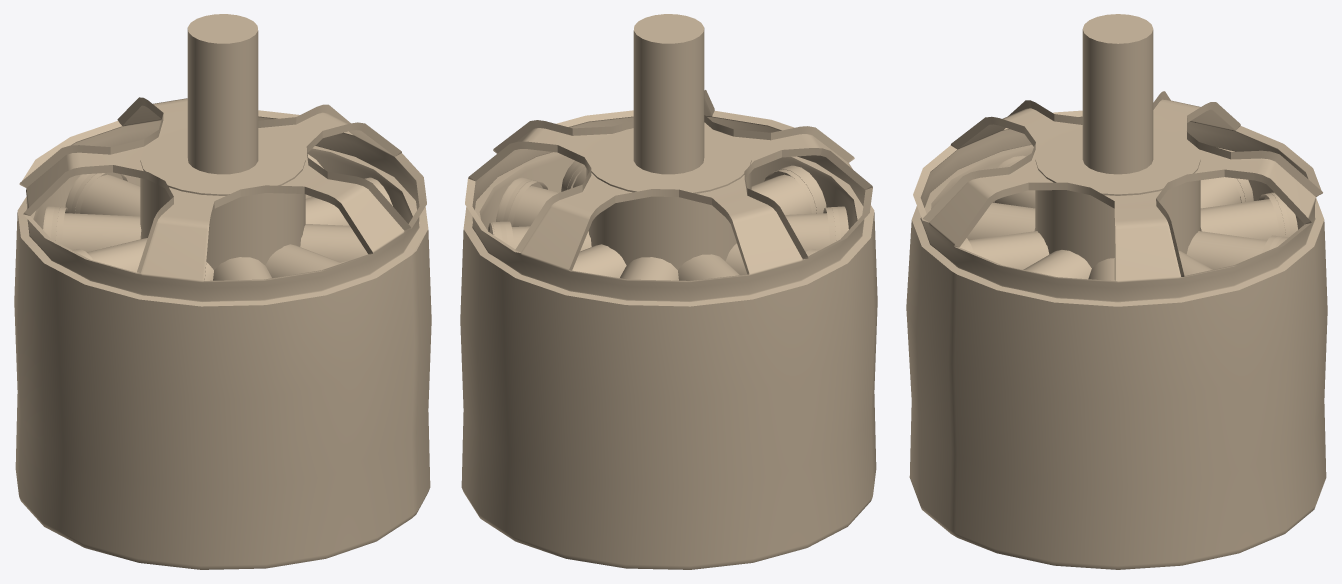
Rendered from motor_type_5.fbx.
3 views of the same model, side by side, from view 1: azimuth 30°, elevation 25°; view 2: azimuth 150°, elevation 25°; view 3: azimuth 270°, elevation 25° (orthographic).
Parts seen in each view (by area): view 1: pCylinder20, pCylinder21, coil_7_174, coil_7_175, coil_7_169, coil_7_170, coil_7_173, coil_7_172, coil; view 2: pCylinder20, pCylinder21, coil_7_172, coil, coil_7_171, coil_7_176, coil_7_174, coil_7_175, coil_7_167, coil_7_169; view 3: pCylinder20, pCylinder21, coil_7_175, coil_7_176, coil_7_170, coil_7_172, coil_7_174, coil_7_169, coil_7_171.
Part boxes in pixels (x1=…): pCylinder20: x1=14, y1=14, x2=431, y2=569; pCylinder21: x1=140, y1=128, x2=305, y2=269; coil_7_174: x1=43, y1=206, x2=141, y2=252; coil_7_175: x1=65, y1=172, x2=140, y2=216; coil_7_169: x1=300, y1=224, x2=367, y2=262; coil_7_170: x1=265, y1=244, x2=348, y2=277; coil_7_173: x1=72, y1=238, x2=147, y2=272; coil_7_172: x1=213, y1=257, x2=271, y2=280; coil: x1=305, y1=177, x2=392, y2=225; pCylinder20: x1=460, y1=14, x2=877, y2=569; pCylinder21: x1=586, y1=128, x2=751, y2=269; coil_7_172: x1=751, y1=165, x2=826, y2=214; coil: x1=496, y1=177, x2=558, y2=226; coil_7_171: x1=785, y1=206, x2=848, y2=251; coil_7_176: x1=572, y1=244, x2=626, y2=277; coil_7_174: x1=678, y1=254, x2=739, y2=280; coil_7_175: x1=620, y1=257, x2=678, y2=280; coil_7_167: x1=488, y1=221, x2=591, y2=251; coil_7_169: x1=561, y1=160, x2=586, y2=191; pCylinder20: x1=906, y1=14, x2=1327, y2=569; pCylinder21: x1=1035, y1=128, x2=1200, y2=267; coil_7_175: x1=1200, y1=192, x2=1297, y2=240; coil_7_176: x1=1186, y1=231, x2=1288, y2=269; coil_7_170: x1=959, y1=231, x2=1049, y2=269; coil_7_172: x1=966, y1=202, x2=1035, y2=240; coil_7_174: x1=1200, y1=177, x2=1253, y2=208; coil_7_169: x1=1023, y1=250, x2=1091, y2=279; coil_7_171: x1=993, y1=155, x2=1035, y2=208.
Bounding box in the file's own units: 2.54 × 3.03 × 2.55.
